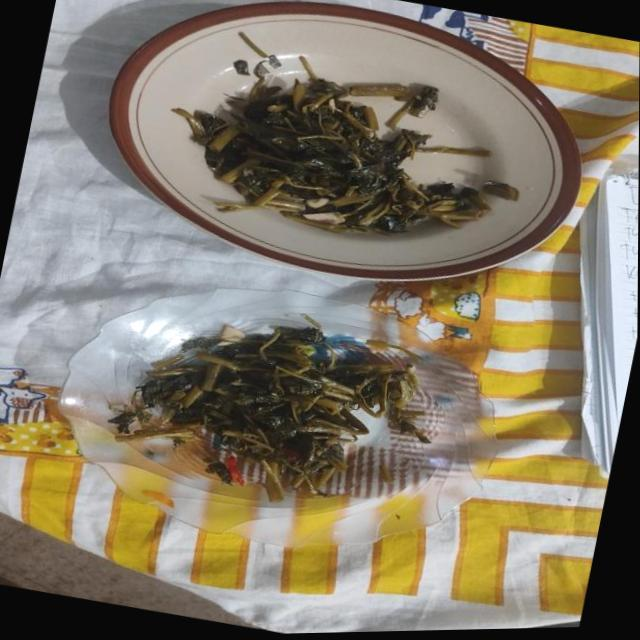tumis_kangkung: (108, 314, 428, 502), (177, 58, 491, 236)
